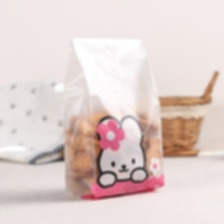snack: (54, 28, 171, 205)
